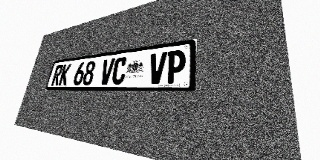6: (72, 62, 87, 85)
8: (82, 60, 97, 85)
C: (111, 57, 128, 85)
K: (58, 64, 71, 86)
P: (165, 49, 186, 84)
R: (51, 65, 64, 86)
V: (147, 52, 167, 84), (99, 58, 115, 85)
